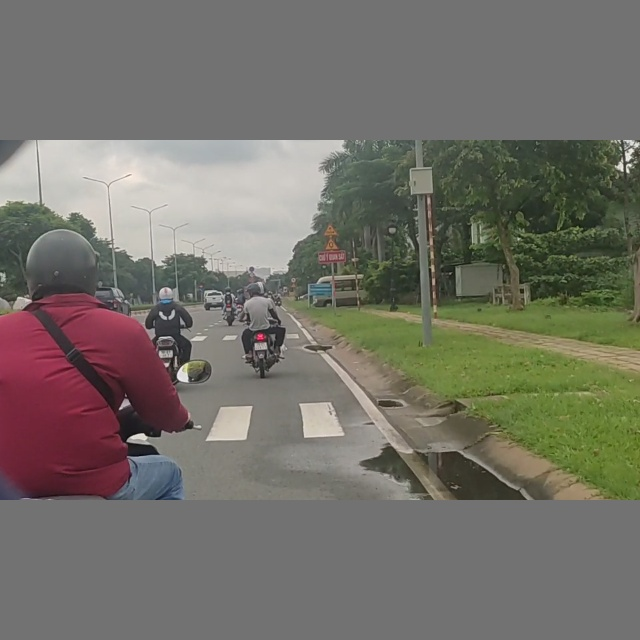P.130: (249, 266, 256, 272)
W.245a: (323, 223, 339, 237)
W.246a: (324, 239, 340, 251)
